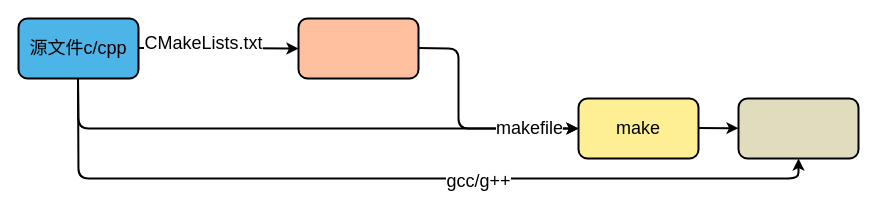
Some shapes in this 876 by 209 pixel diagram are drawn without their labels. Here are the shapes that lost their labels. From the top down, the centre of each, then its label:
At point 358,48: "cmake".
At point 798,128: "可执行文件".
